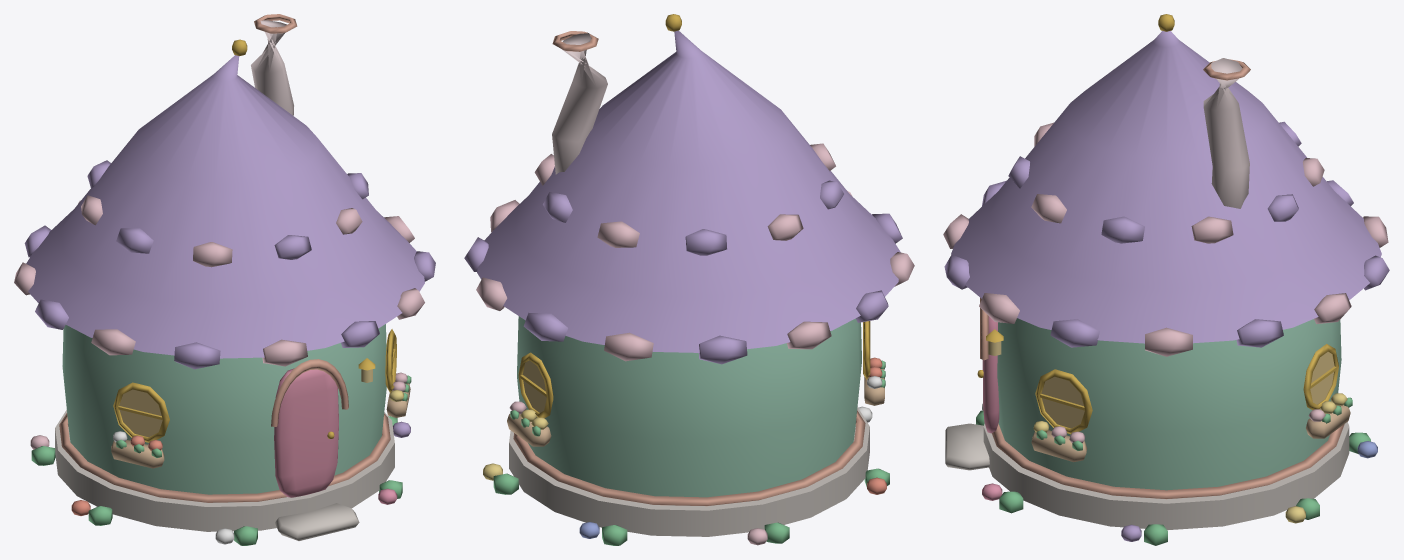
File: fae_cottage_b.gltf
3 renders of one model, left to right at view 1: azimuth 30°, elevation 25°; view 2: azimuth 150°, elevation 25°; view 3: azimuth 270°, elevation 25°, orthographic. The views are drawn at different scales.
Parts seen in each view (by area): view 1: fae_cottage_b; view 2: fae_cottage_b; view 3: fae_cottage_b.
Part boxes in pixels (bbox=[...]): fae_cottage_b: bbox=[14, 14, 435, 545]; fae_cottage_b: bbox=[464, 14, 914, 545]; fae_cottage_b: bbox=[943, 14, 1389, 545].
Size of what is drawn, in the model's own units: 6.21 by 6.89 by 6.1.
